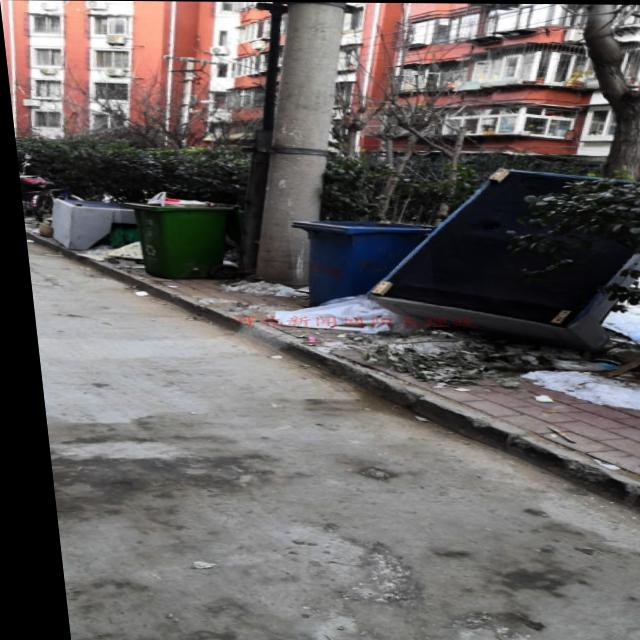garbage_bin: (282, 219, 429, 303)
overflow: (114, 191, 239, 278)
